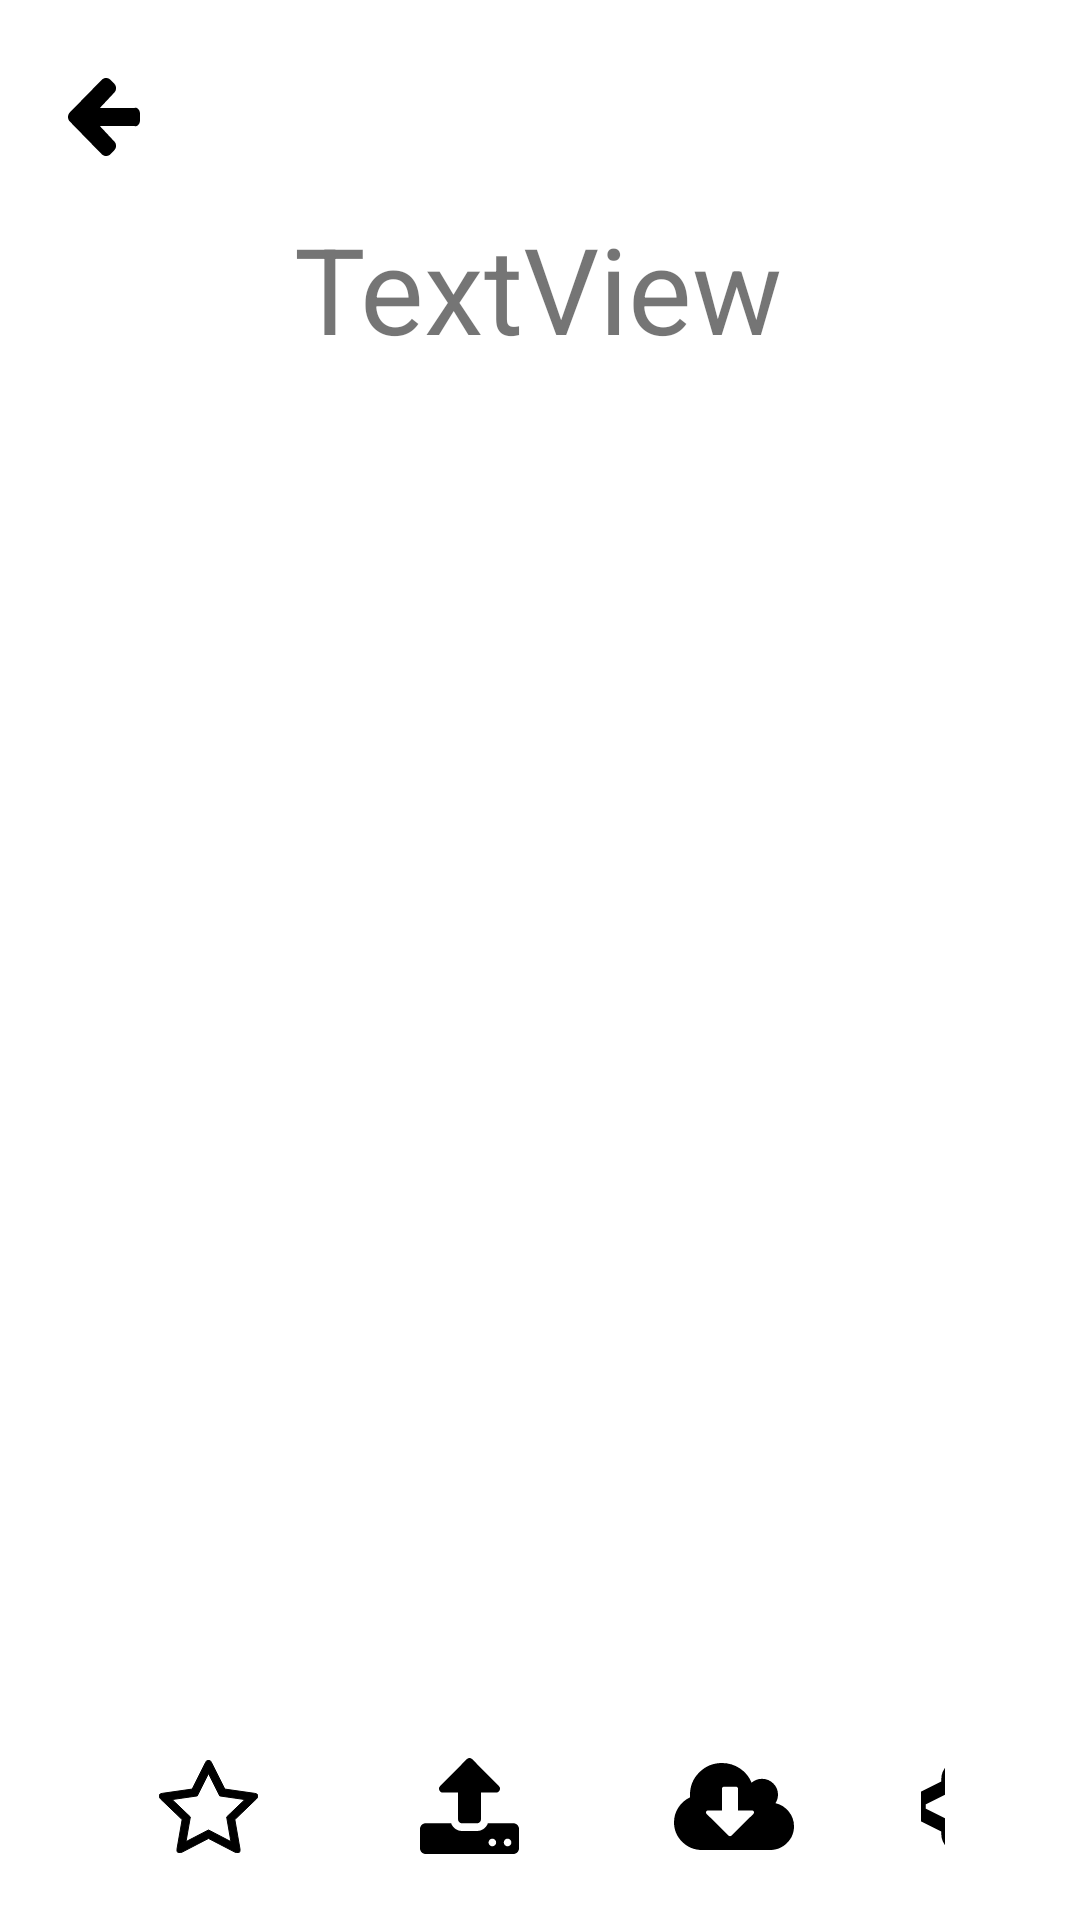

Icon bounding boxes for this 1080px x 1920px phone screenshot, format (x1, y1, x2, y2):
back arrow: (68, 78, 140, 156)
download: (674, 1763, 794, 1850)
upload: (420, 1758, 519, 1854)
